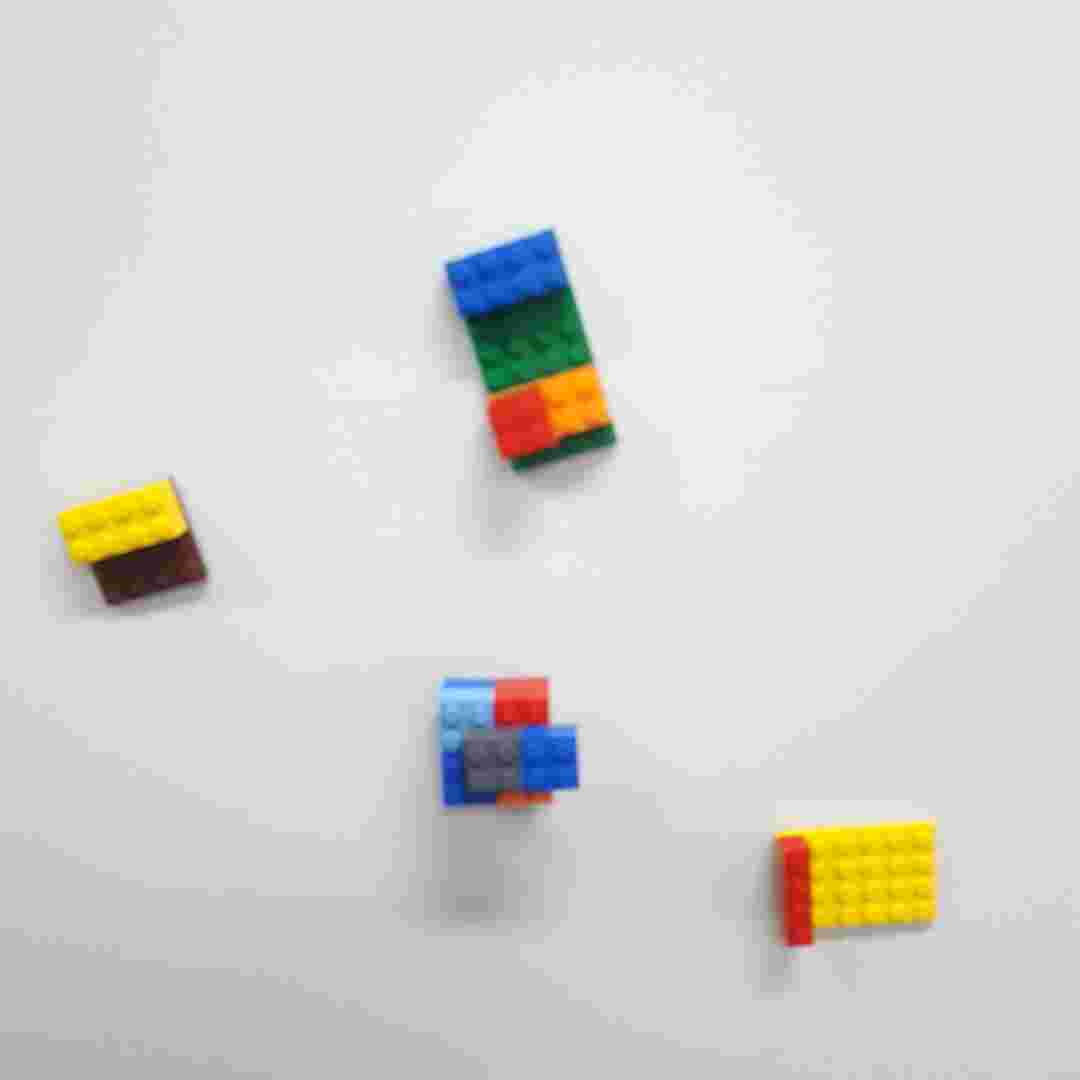LEGO: (442, 226, 624, 482), (768, 813, 944, 951), (54, 475, 214, 613), (438, 670, 585, 812)
